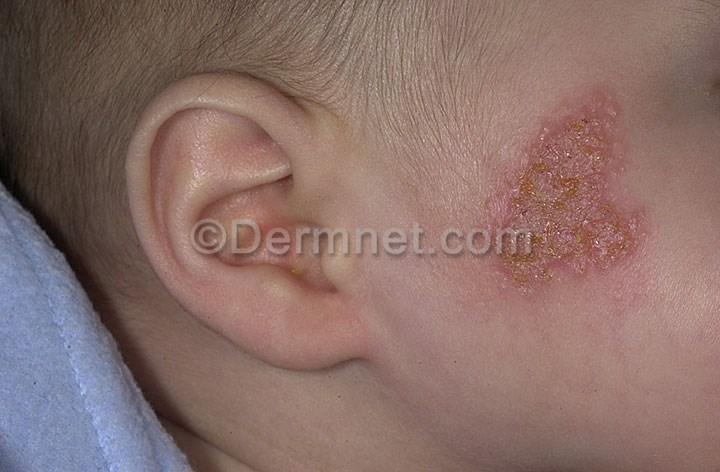Eczema: (502, 116, 641, 282)
